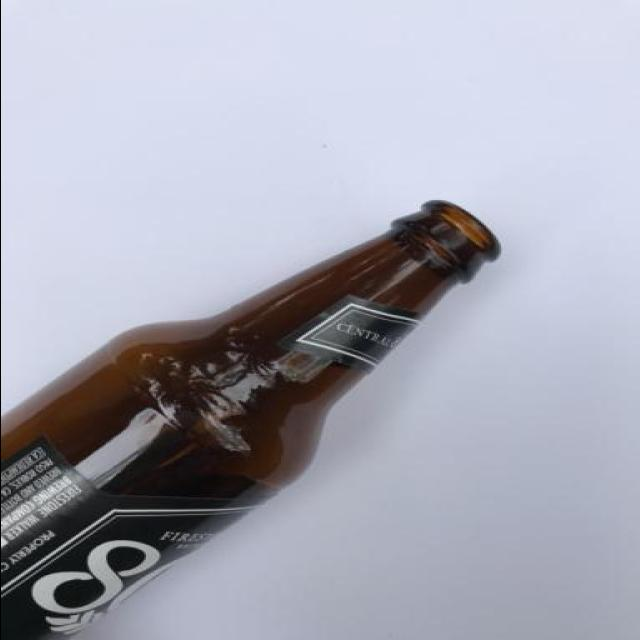glass: (0, 189, 529, 640)
